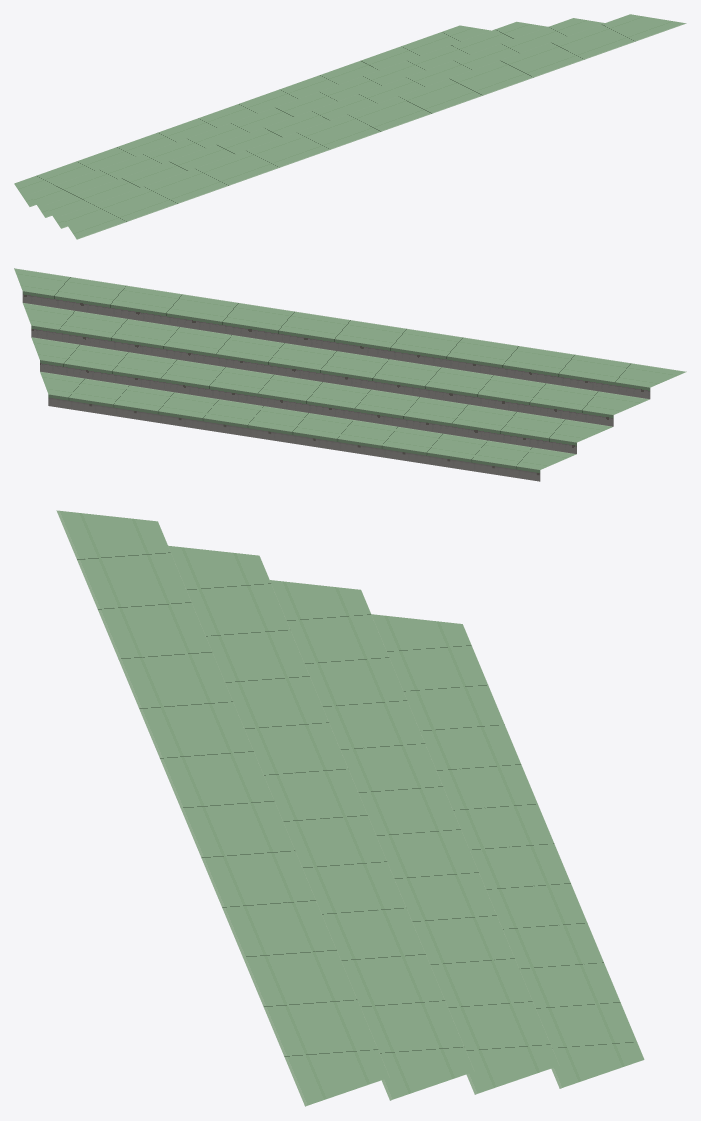
The model's file is kd_stage_135fe0_3_30.glb.
3 renders of one model, top to bottom at view 1: azimuth 30°, elevation 25°; view 2: azimuth 150°, elevation 25°; view 3: azimuth 270°, elevation 25°, orthographic. The views are drawn at different scales.
Visible parts, largest first — view 1: kd_stage_135fe0_3_30; view 2: kd_stage_135fe0_3_30; view 3: kd_stage_135fe0_3_30.
Part boxes in pixels (box(x1,y1,x2,y2)): kd_stage_135fe0_3_30: box(14, 14, 686, 239); kd_stage_135fe0_3_30: box(14, 268, 686, 481); kd_stage_135fe0_3_30: box(56, 510, 644, 1106).
Size of the model in its own units: 9.91 by 0.72 by 4.13.
Materials: 1 (1 with a texture image).
